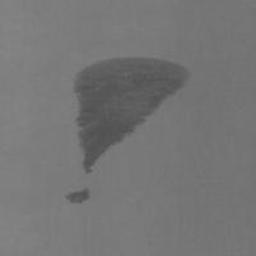Oil spot: (73, 55, 192, 175), (65, 186, 91, 205)
